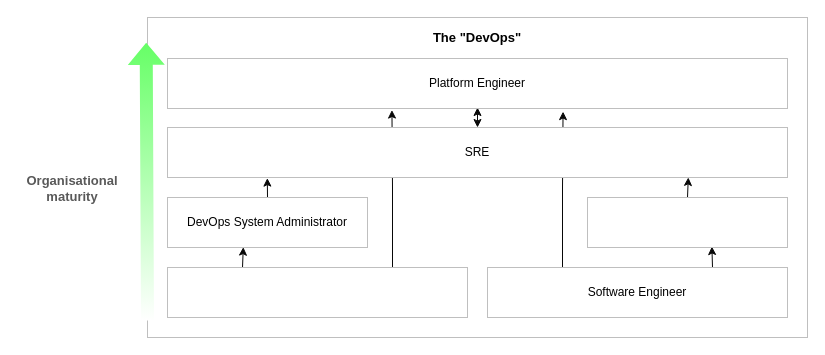
Some shapes in this 825 by 355 pixel diagram are drawn without their labels. The box of each missing label's shape, as (x1, y1, x2, y2) in pixels:
DevOps Software Engineer: (586, 196, 788, 248)
System Administrator: (166, 266, 468, 318)
